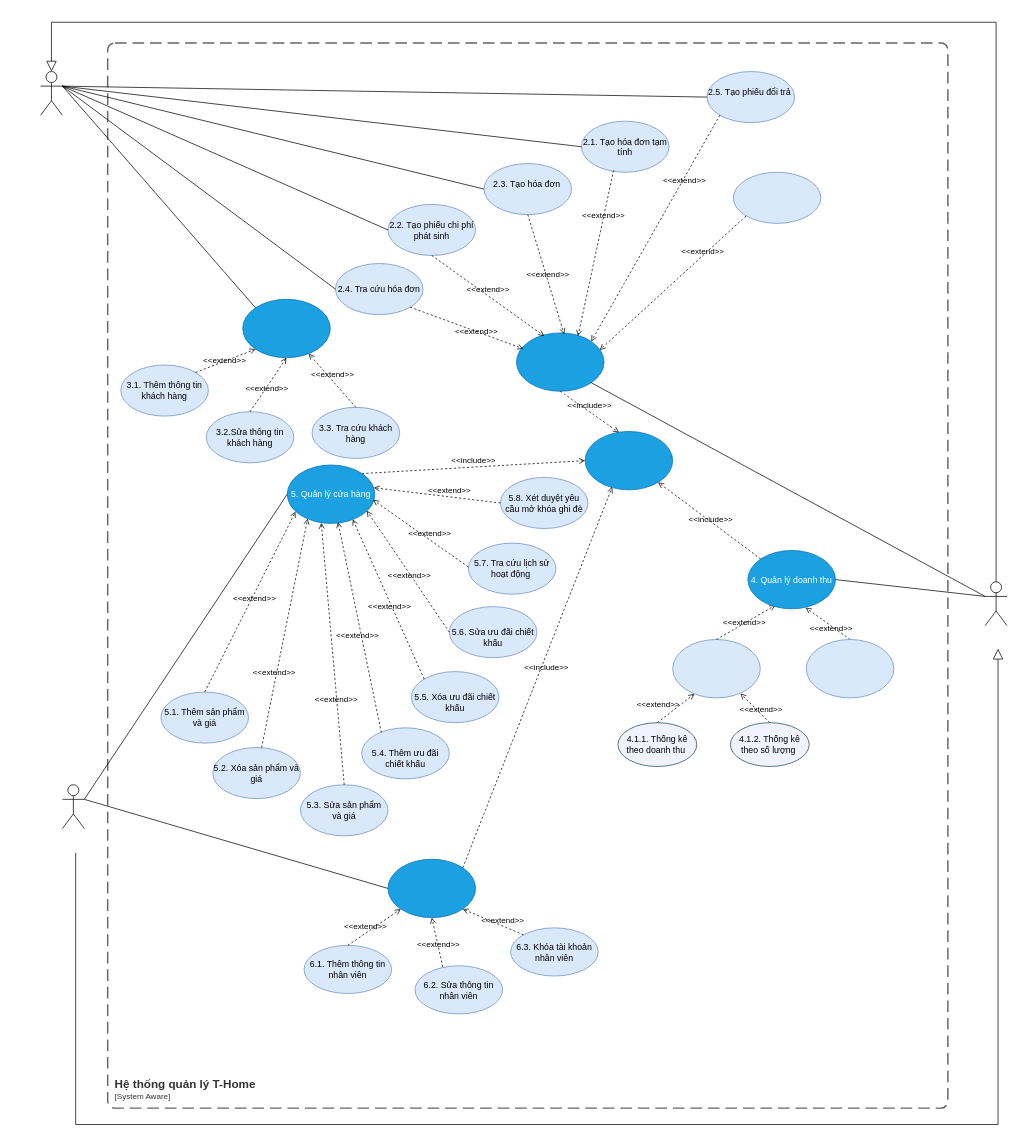
This 1033x1148 diagram has some shape labels left out. The box of each missing label's shape, as (x1, y1, x2, y2) in pixels:
1. Đăng nhập: (584, 431, 673, 490)
2. Quản lý đơn b án hàng: (516, 332, 604, 391)
2.6. Ghi đè hóa đơn: (733, 172, 821, 223)
3. Quản lý khách hàng: (242, 299, 330, 358)
4.1. Thống kê sản phẩm bán chạy: (672, 639, 760, 698)
4.2. Tạo báo cáo doanh thu: (806, 639, 894, 698)
6. Quản lý nhân viên: (387, 858, 476, 918)
Chủ cửa hàng: (62, 784, 84, 829)
Kế toán viên: (984, 581, 1007, 626)
Nhân viên bán hàng: (40, 71, 62, 115)
